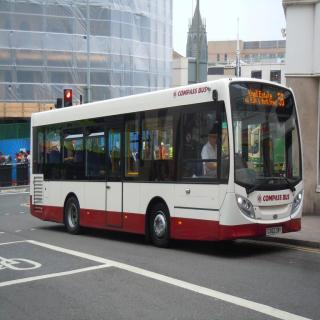bus: (29, 76, 302, 238)
